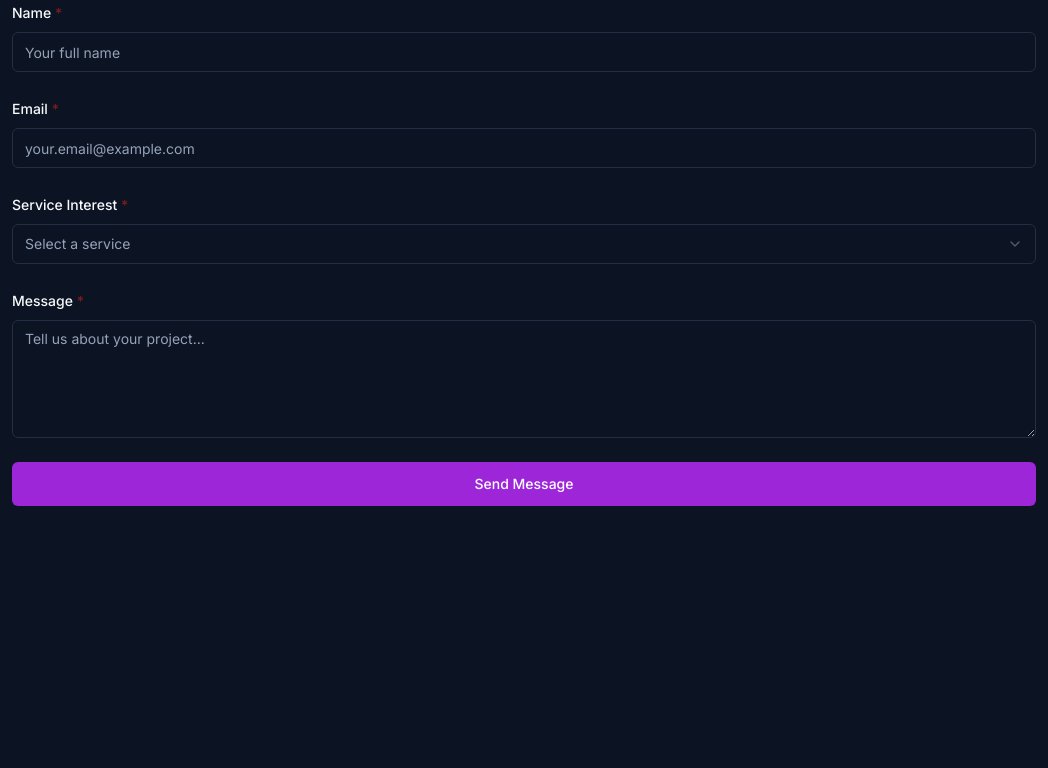
Test: ContactForm › Form Reset After Submission › clears all fields after successful submission
This screenshot has width=1048, height=768.
Type "John Doe" into the field labelled "Name *" at (524, 52), box [12, 32, 1036, 72]
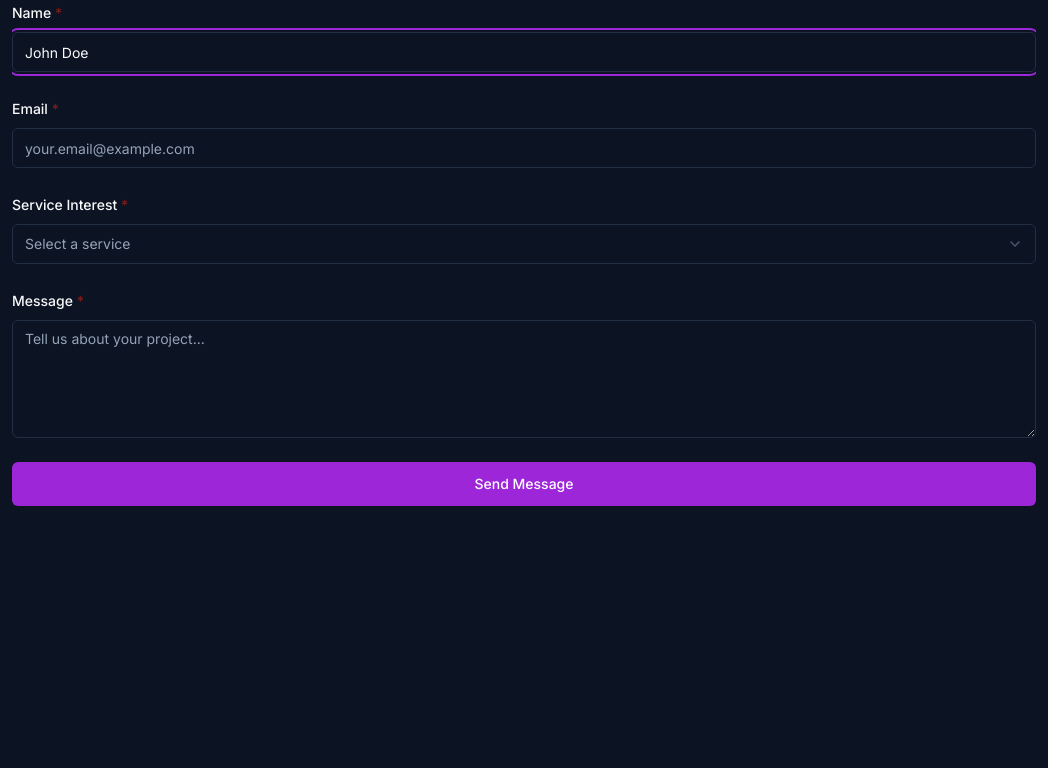
Type "john@example.com" into the field labelled "Email *" at (524, 148), box [12, 128, 1036, 168]
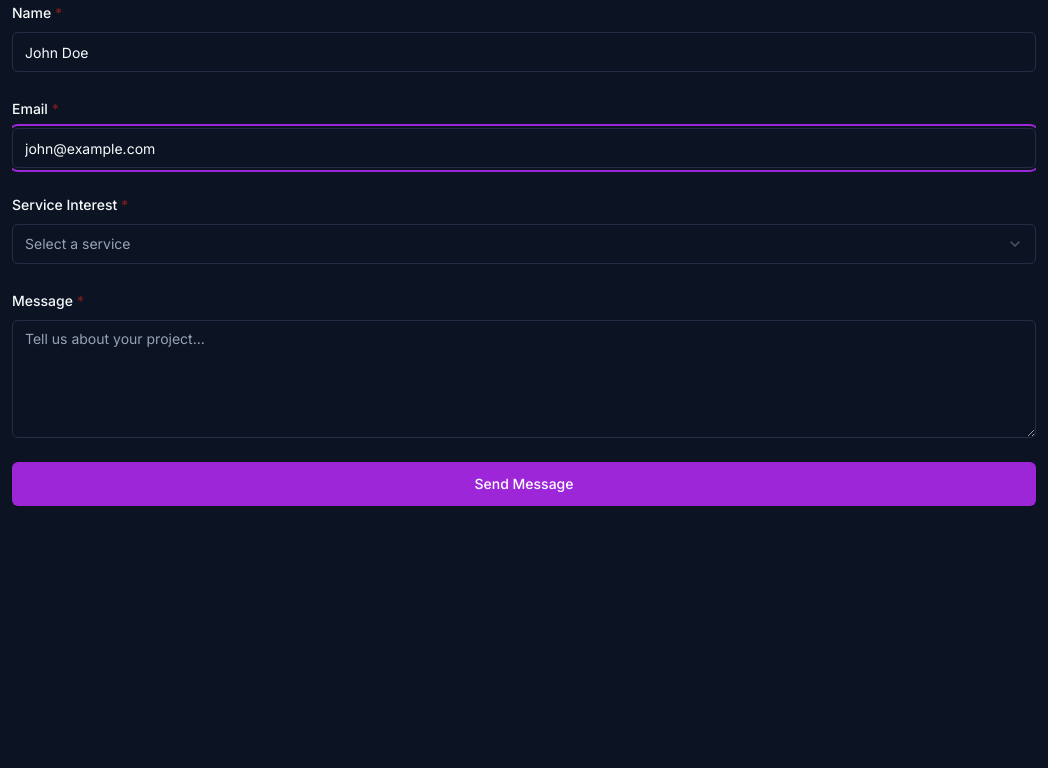
Click the dropdown at (78, 244), box [12, 224, 1036, 264]
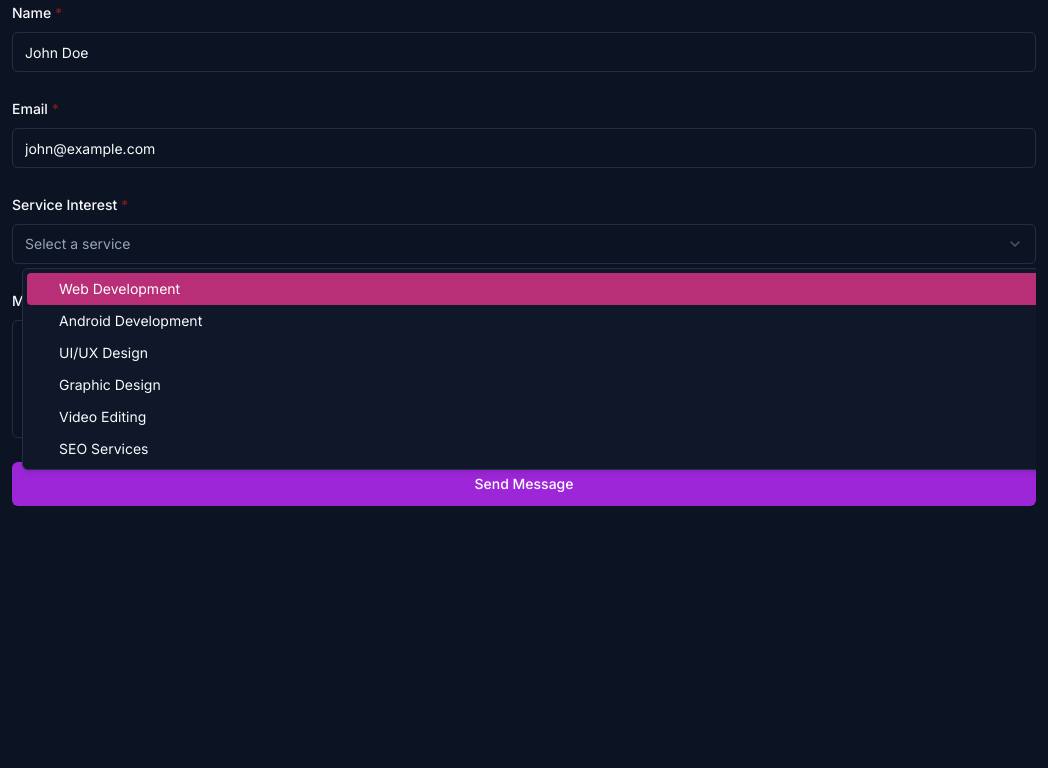
Click the option "Web Development" at (120, 288), box [27, 273, 1036, 305]
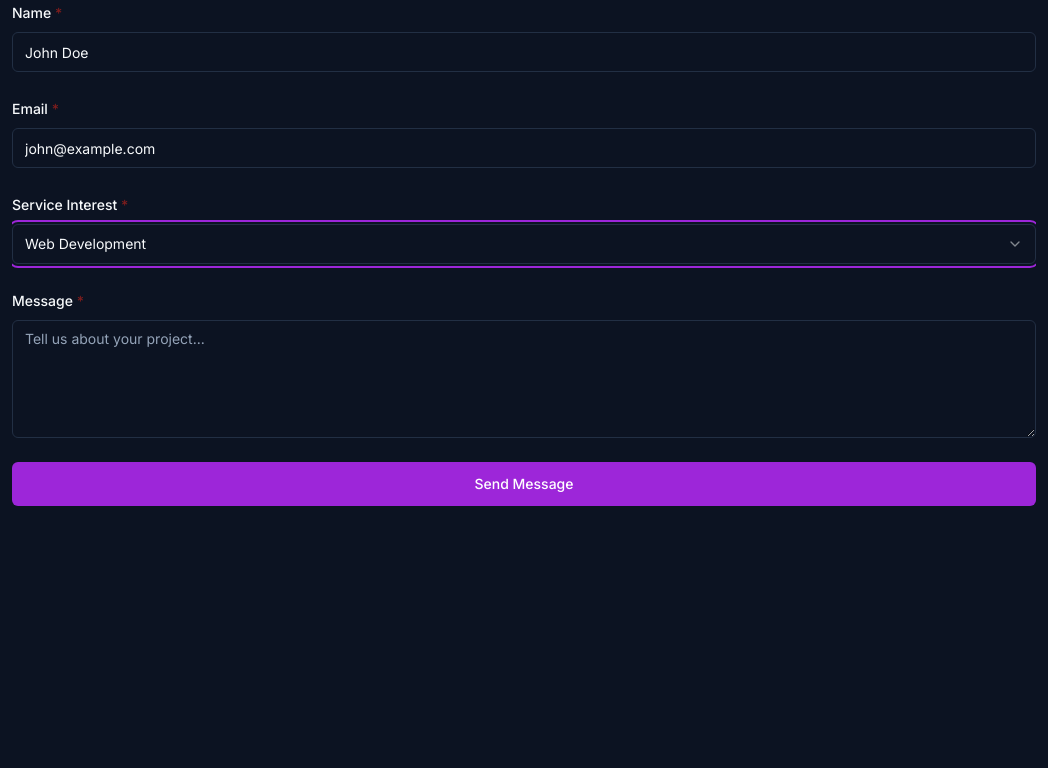
Type "This is a test message" into the text box labelled "Message *" at (524, 379), box [12, 320, 1036, 438]
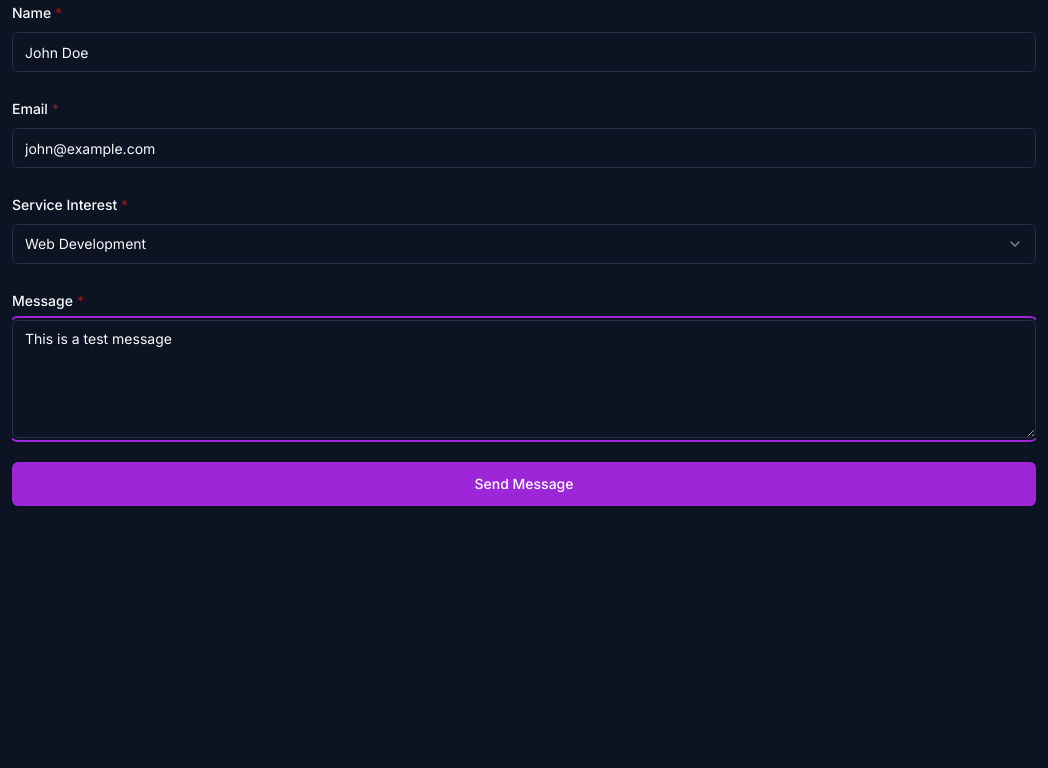
Click the button "Send Message" at (524, 484), box [12, 462, 1036, 506]
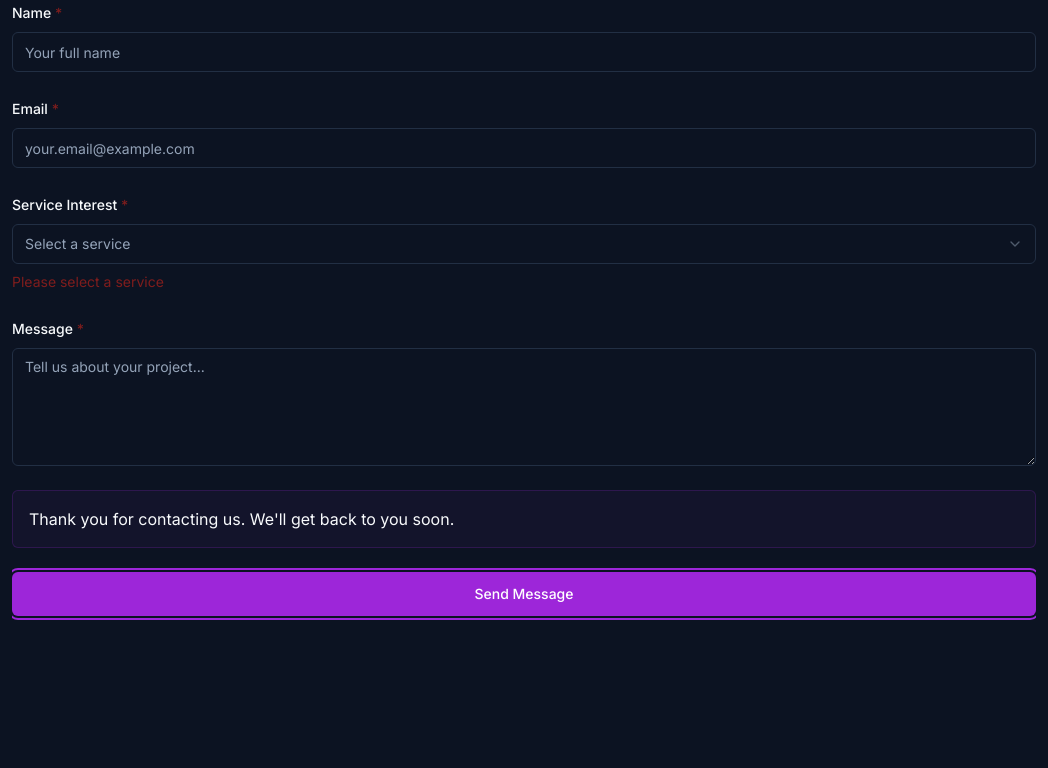
Result: the text "Thank you for contacting us. We'll get back to you soon." is shown at [12, 490, 1036, 548]
Result: the field labelled "Name *" is empty at [12, 32, 1036, 72]
Result: the field labelled "Email *" is empty at [12, 128, 1036, 168]
